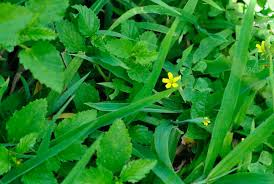yellow wood sorrrel: (161, 72, 179, 89)
